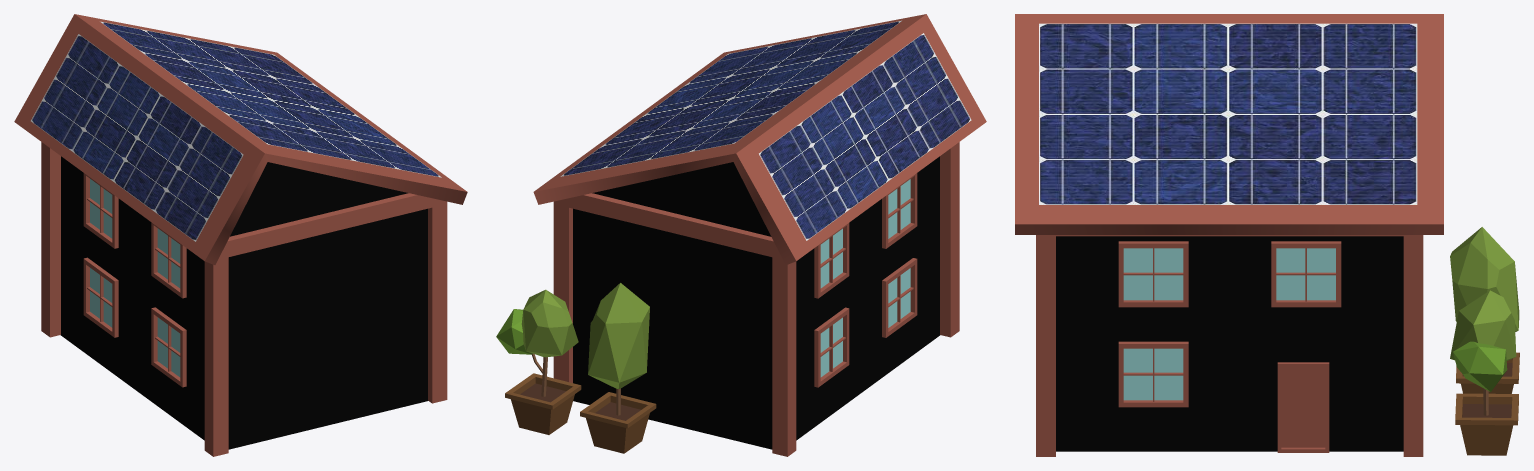
File: newHouse2 1.fbx
3 renders of one model, left to right at view 1: azimuth 30°, elevation 25°; view 2: azimuth 150°, elevation 25°; view 3: azimuth 270°, elevation 25°, orthographic. The views are drawn at different scales.
Parts seen in each view (by area): view 1: Wohnhaus1.001, Plane.024, Wohnhaus5.003, Cube.004, Plane.021, Plane.023, Plane.022; view 2: Wohnhaus1.001, Plane.024, Wohnhaus5.003, Plane.021, Cube.004, Cube.031, Cube.032, Plane.023, Plane.022; view 3: Plane.021, Wohnhaus1.001, Wohnhaus5.003, Cube.004, Plane.022, Cube.032, Cube.031, Plane.027, Plane.023.
Part boxes in pixels (x1,y1,x2,y2): Wohnhaus1.001: (60, 156, 427, 449); Plane.024: (31, 34, 243, 241); Wohnhaus5.003: (14, 14, 467, 264); Cube.004: (41, 142, 447, 456); Plane.021: (100, 21, 441, 177); Plane.023: (83, 257, 186, 387); Plane.022: (83, 173, 186, 298); Wohnhaus1.001: (573, 156, 940, 449); Plane.024: (759, 33, 971, 240); Wohnhaus5.003: (533, 14, 986, 264); Plane.021: (560, 20, 901, 176); Cube.004: (553, 142, 959, 456); Cube.031: (580, 283, 656, 453); Cube.032: (496, 289, 581, 434); Plane.023: (814, 258, 917, 387); Plane.022: (814, 173, 917, 298); Plane.021: (1039, 23, 1417, 204); Wohnhaus1.001: (1056, 236, 1403, 451); Wohnhaus5.003: (1015, 14, 1443, 234); Cube.004: (1036, 235, 1423, 456); Plane.022: (1118, 241, 1341, 307); Cube.032: (1450, 290, 1518, 455); Cube.031: (1450, 227, 1519, 393); Plane.027: (1277, 362, 1329, 452); Plane.023: (1118, 341, 1188, 407).
Size of the model in its own units: 7.74 by 8.11 by 10.96.
